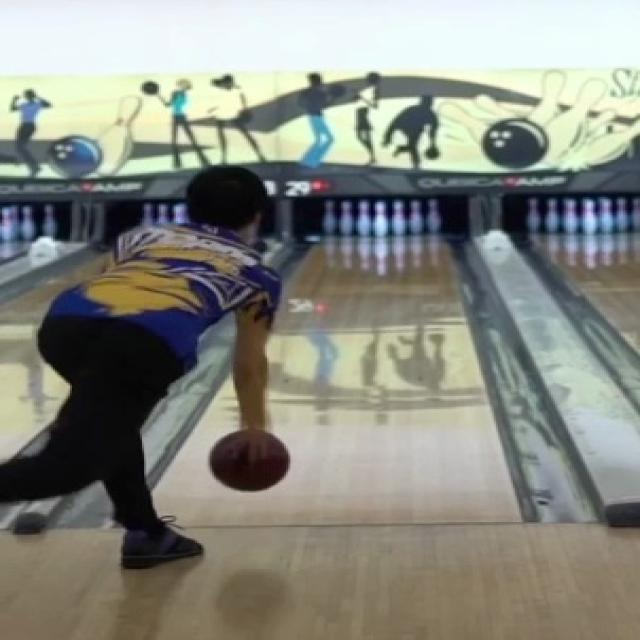alley: (157, 238, 519, 525)
balls: (208, 430, 288, 490)
bottle: (322, 200, 441, 238)
